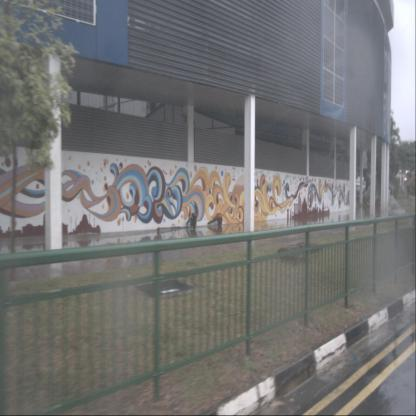vehicle-car: (352, 179, 364, 195)
